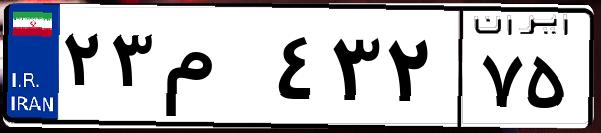2: (385, 28, 445, 110), (57, 26, 110, 100)
3: (330, 28, 385, 110), (110, 28, 158, 98)
4: (270, 28, 330, 110)
5: (525, 38, 570, 115)
7: (475, 38, 525, 113)
م: (158, 20, 270, 120)
